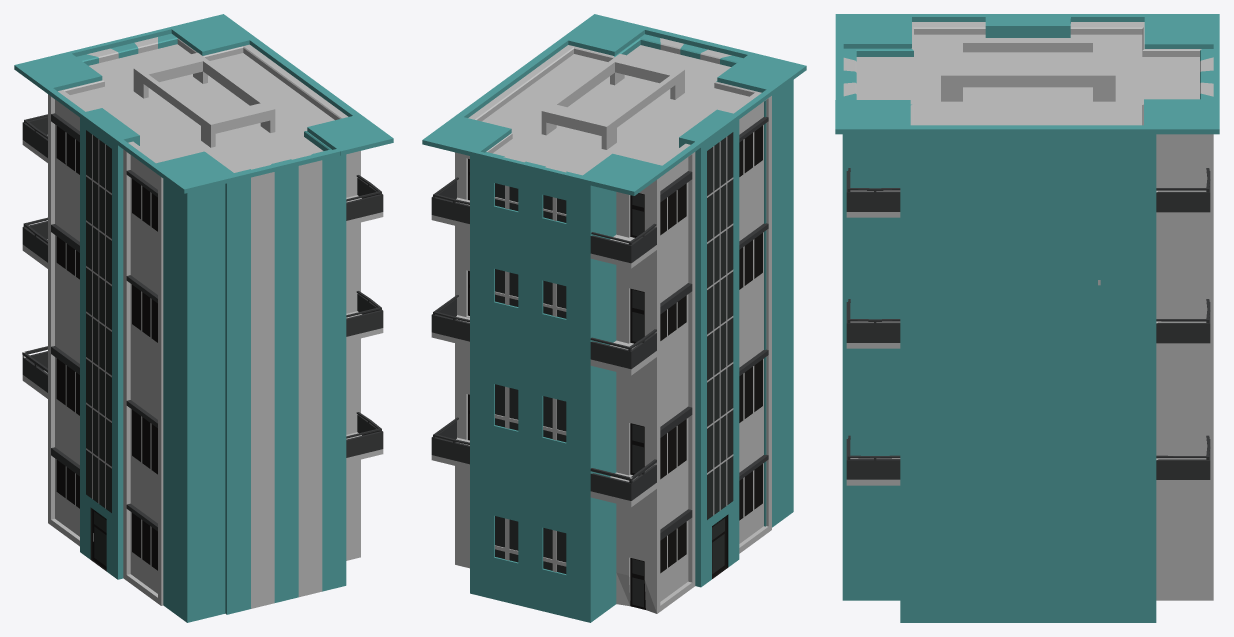
File: apt-6.glb
The picture shows the model from 3 angles, left to right: view 1: azimuth 30°, elevation 25°; view 2: azimuth 150°, elevation 25°; view 3: azimuth 270°, elevation 25°; orthographic projection. The views are drawn at different scales.
Size of the model in its own units: 1.47 by 3.03 by 2.07.
